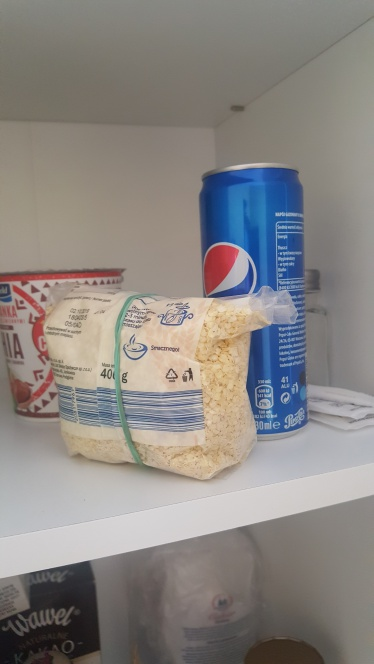pepsi: (186, 155, 325, 443)
